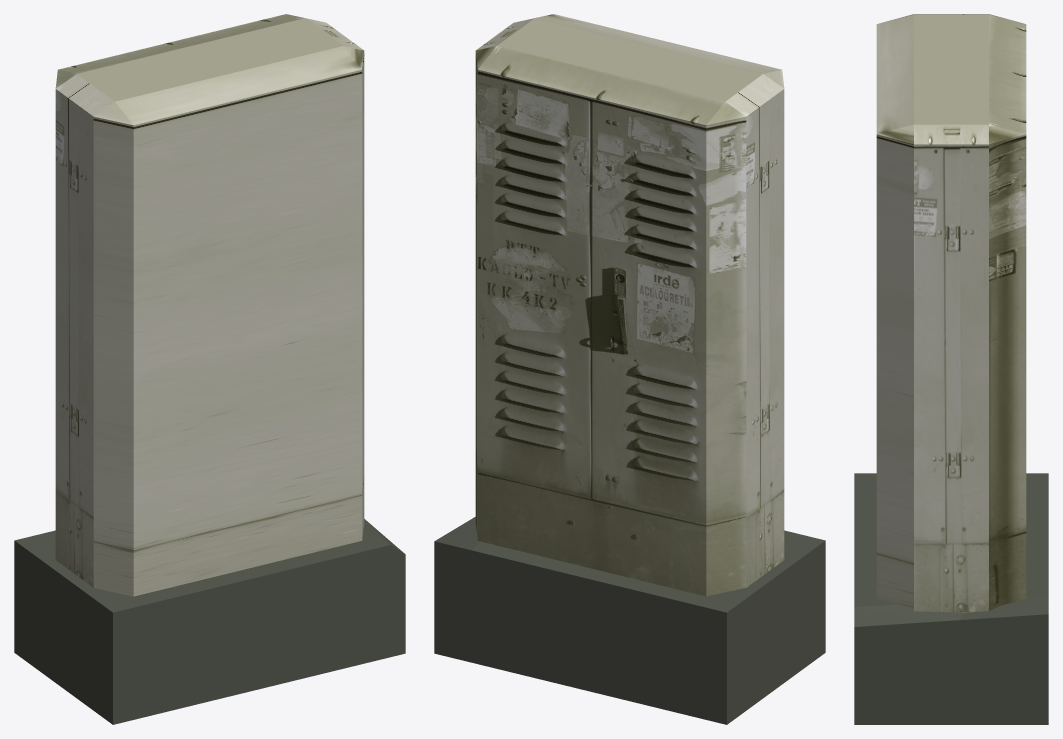
3 renders of one model, left to right at view 1: azimuth 30°, elevation 25°; view 2: azimuth 150°, elevation 25°; view 3: azimuth 270°, elevation 25°, orthographic.
Parts seen in each view (by area): view 1: box001, Ubase; view 2: box001, Ubase; view 3: box001, Ubase.
Boxes of the visible parts, x1,y1,x2,y2 form: box001: (55, 14, 364, 596); Ubase: (14, 519, 405, 724); box001: (475, 14, 784, 596); Ubase: (434, 517, 825, 724); box001: (876, 14, 1026, 612); Ubase: (854, 473, 1048, 724).
Bounding box in the file's own units: 2.22 × 4.31 × 1.3.
2 materials, 1 textured.
